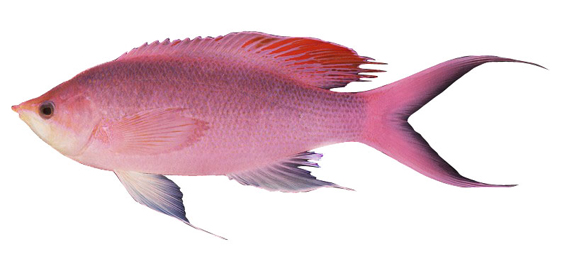fish: (11, 31, 547, 240)
